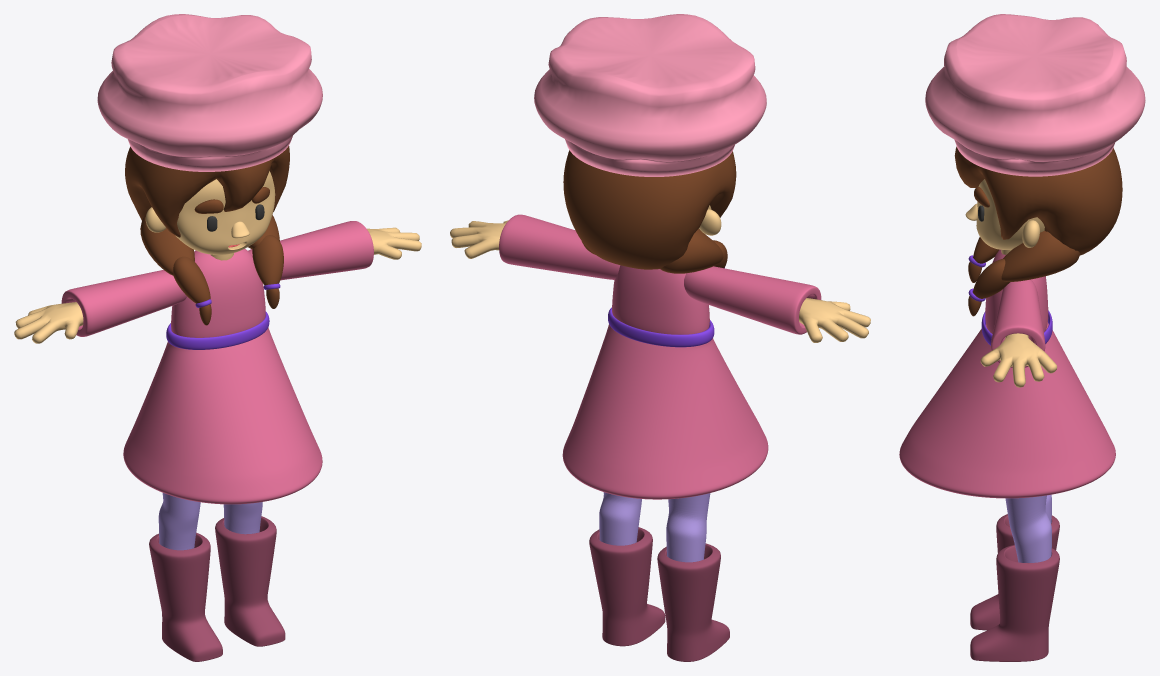
File: Character B new.fbx
3 views of the same model, side by side, from view 1: azimuth 30°, elevation 25°; view 2: azimuth 150°, elevation 25°; view 3: azimuth 270°, elevation 25° (orthographic). The views are drawn at different scales.
Parts seen in each view (by area): view 1: Cap, Frock, boots, Hair, Sleeves, Upperbody, Face, Hands.001, legs, belt; view 2: Cap, Frock, Hair, boots, Sleeves, Upperbody, legs, Hands.001, belt; view 3: Cap, Frock, Hair, boots, legs, Sleeves, Hands.001, Face, Upperbody, ears.
Part boxes in pixels (left/top/right/bottom): Cap: left=97, top=14, right=322, bottom=171; Frock: left=123, top=327, right=322, bottom=504; boots: left=149, top=516, right=285, bottom=661; Hair: left=125, top=146, right=289, bottom=325; Sleeves: left=61, top=221, right=373, bottom=336; Upperbody: left=171, top=249, right=265, bottom=337; Face: left=175, top=171, right=275, bottom=254; Hands.001: left=14, top=227, right=421, bottom=343; legs: left=158, top=493, right=262, bottom=550; belt: left=166, top=311, right=269, bottom=349; Cap: left=534, top=14, right=766, bottom=176; Frock: left=562, top=324, right=768, bottom=499; Hair: left=563, top=150, right=736, bottom=273; boots: left=589, top=527, right=729, bottom=661; Sleeves: left=499, top=214, right=821, bottom=334; Upperbody: left=612, top=265, right=709, bottom=334; legs: left=599, top=492, right=710, bottom=562; Hands.001: left=450, top=220, right=870, bottom=342; belt: left=608, top=307, right=714, bottom=347; Cap: left=925, top=14, right=1145, bottom=176; Frock: left=899, top=322, right=1115, bottom=498; Hair: left=954, top=146, right=1122, bottom=316; boots: left=970, top=514, right=1059, bottom=661; legs: left=1005, top=494, right=1051, bottom=562; Sleeves: left=991, top=279, right=1045, bottom=367; Hands.001: left=980, top=333, right=1057, bottom=387; Face: left=976, top=179, right=1044, bottom=249; Upperbody: left=985, top=249, right=1048, bottom=333; ears: left=1022, top=220, right=1039, bottom=247.
Size of the model in its own units: 129 by 179 by 67.23.
